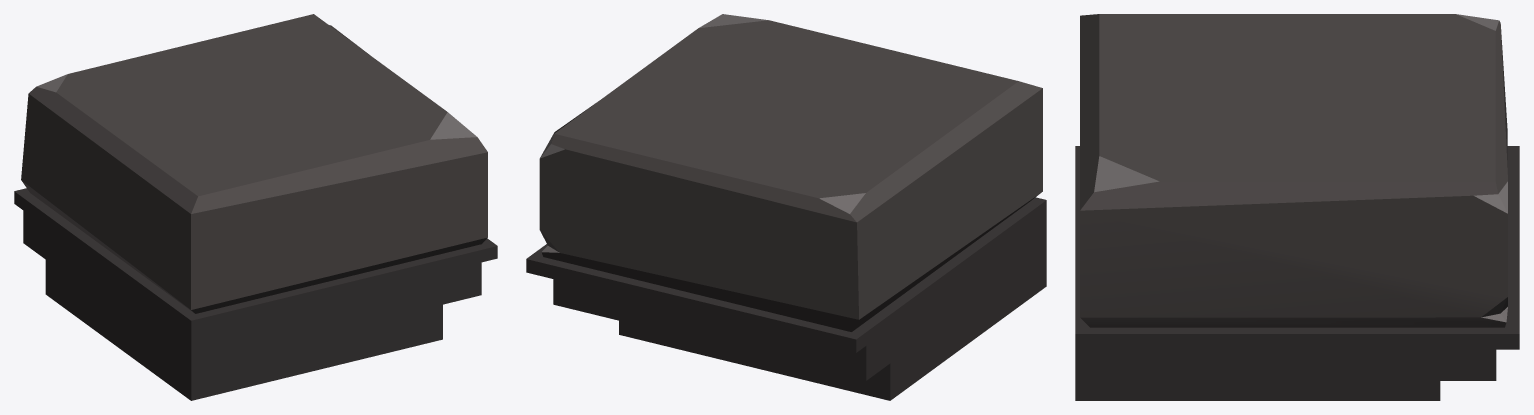
The model's file is Pillar_Top_Stones_Corner_01.glb.
3 renders of one model, left to right at view 1: azimuth 30°, elevation 25°; view 2: azimuth 150°, elevation 25°; view 3: azimuth 270°, elevation 25°, orthographic. The views are drawn at different scales.
Parts seen in each view (by area): view 1: Pillar_Top_Stones_Corner_01; view 2: Pillar_Top_Stones_Corner_01; view 3: Pillar_Top_Stones_Corner_01.
Boxes of the visible parts, box(x1,y1,x2,y2) form: Pillar_Top_Stones_Corner_01: box(14, 14, 497, 400); Pillar_Top_Stones_Corner_01: box(526, 14, 1046, 400); Pillar_Top_Stones_Corner_01: box(1075, 14, 1519, 400).
Size of what is drawn, in the model's own units: 2.7 by 1.63 by 2.7.
Materials: 1 (1 with a texture image).
